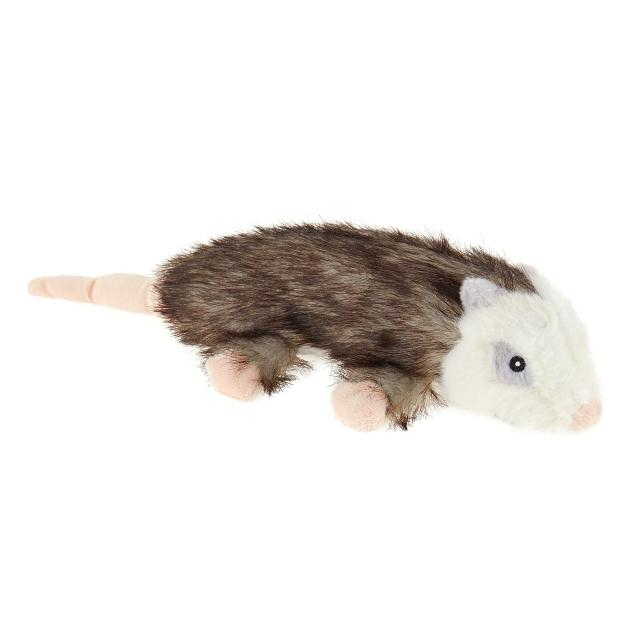possum: (28, 222, 603, 433)
